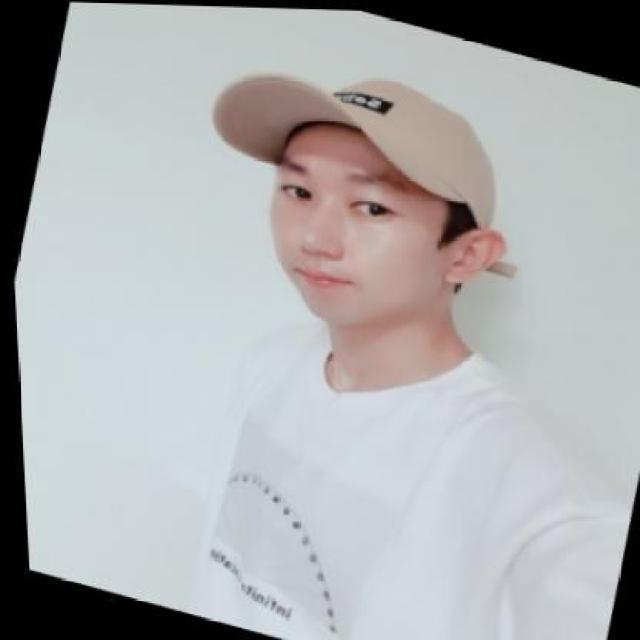hat: (185, 31, 557, 286)
